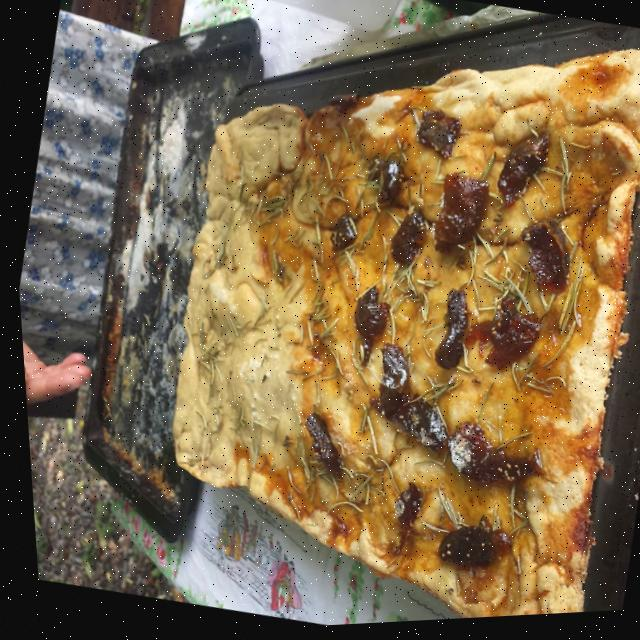pizza: (104, 0, 640, 636)
